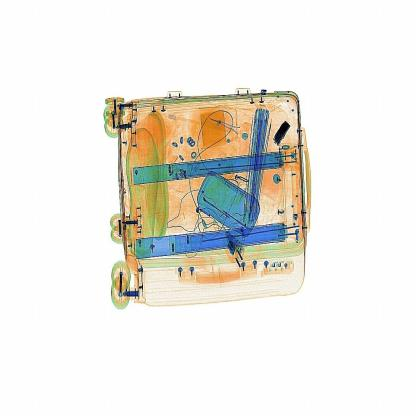scissors: (274, 121, 298, 150)
